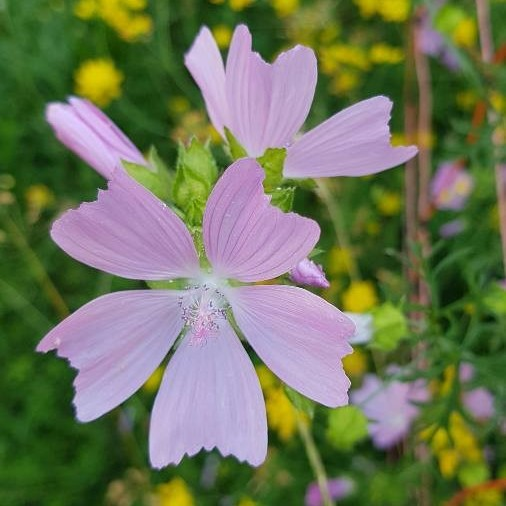obstacle: (42, 155, 367, 496), (177, 20, 387, 193)
